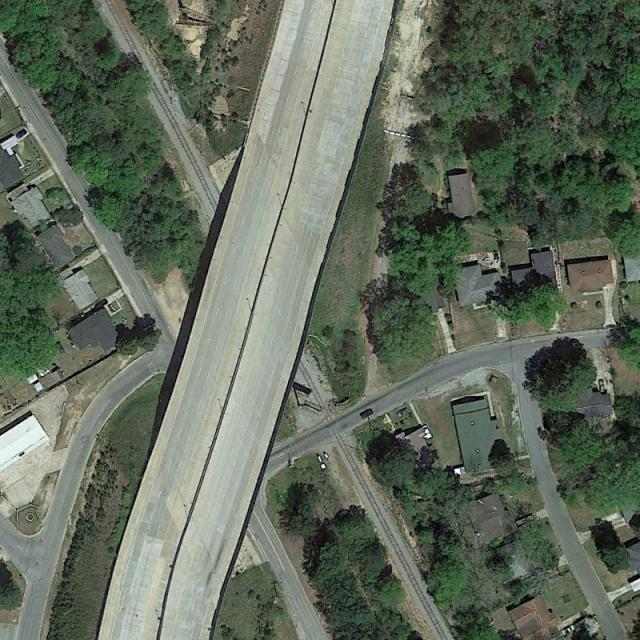vehicle: (561, 625, 575, 636), (360, 409, 374, 418)
